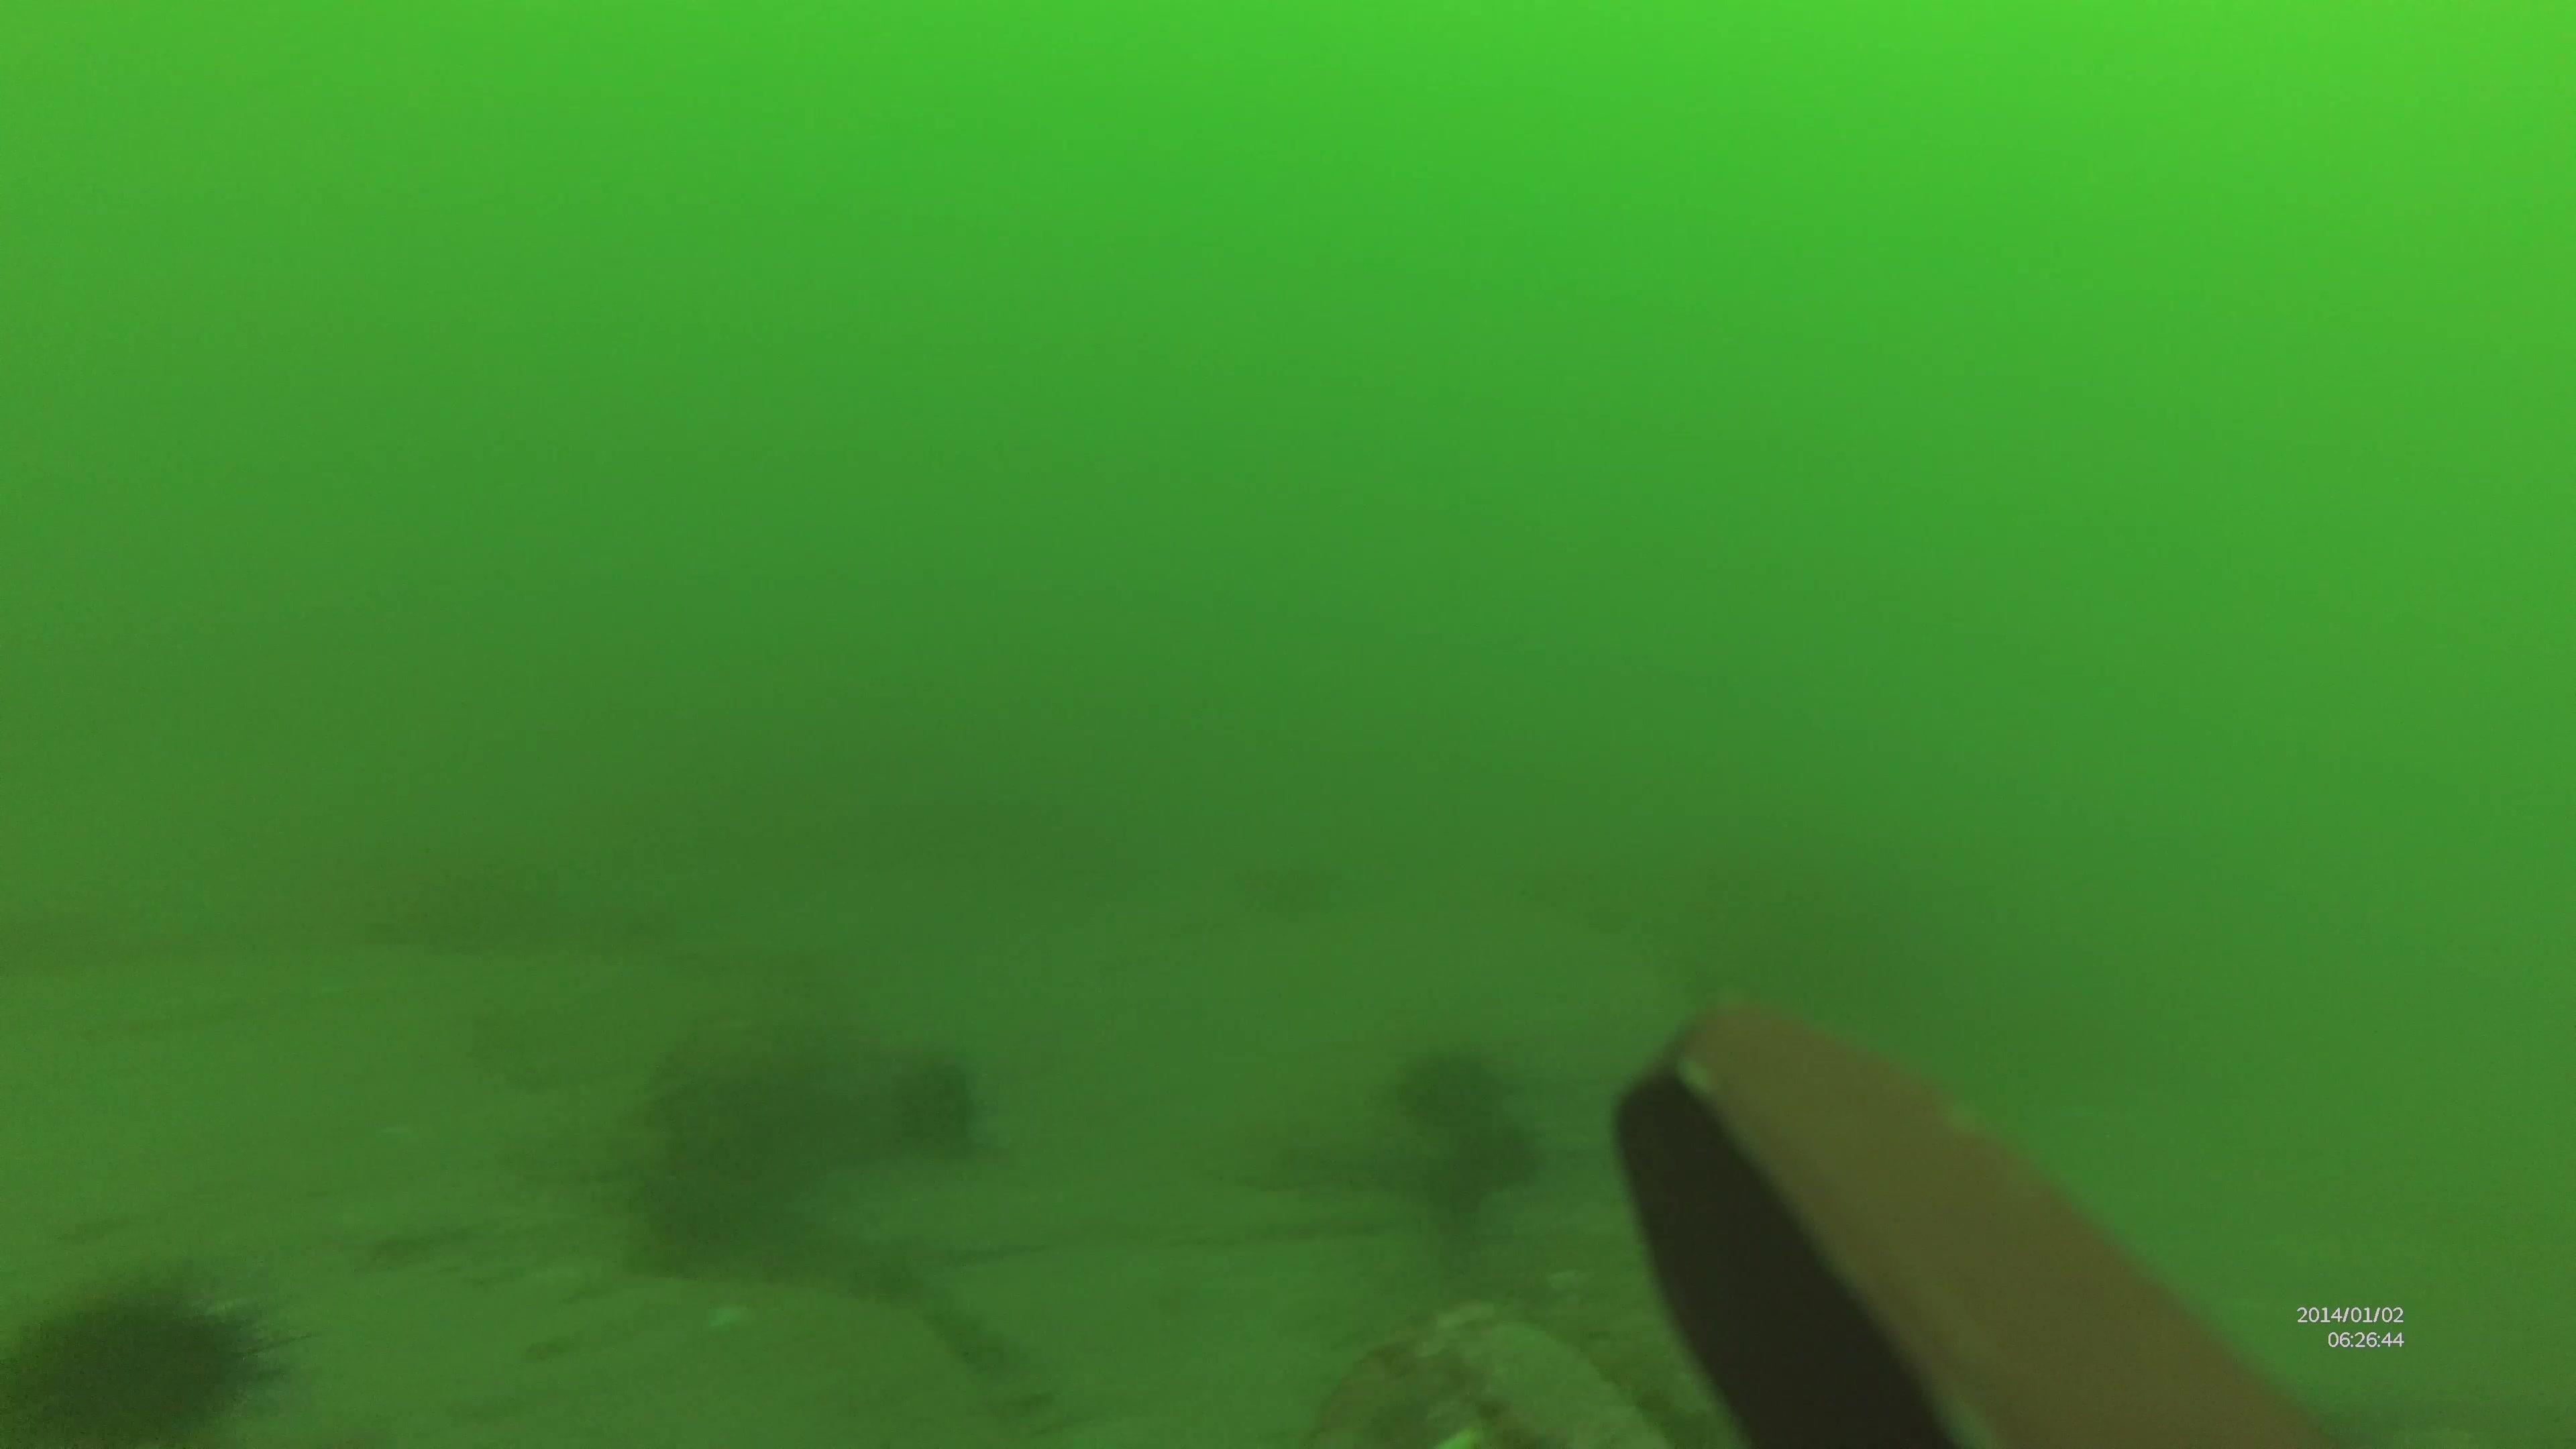echinus: (0, 1253, 299, 1449), (1401, 1033, 1514, 1136), (878, 1065, 971, 1166), (1447, 1138, 1550, 1210)
